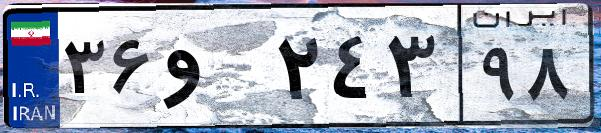2: (270, 28, 330, 110)
3: (385, 28, 445, 110), (57, 26, 110, 100)
4: (330, 28, 385, 110)
6: (110, 28, 158, 98)
8: (525, 38, 570, 115)
9: (475, 38, 525, 113)
و: (158, 20, 270, 120)
